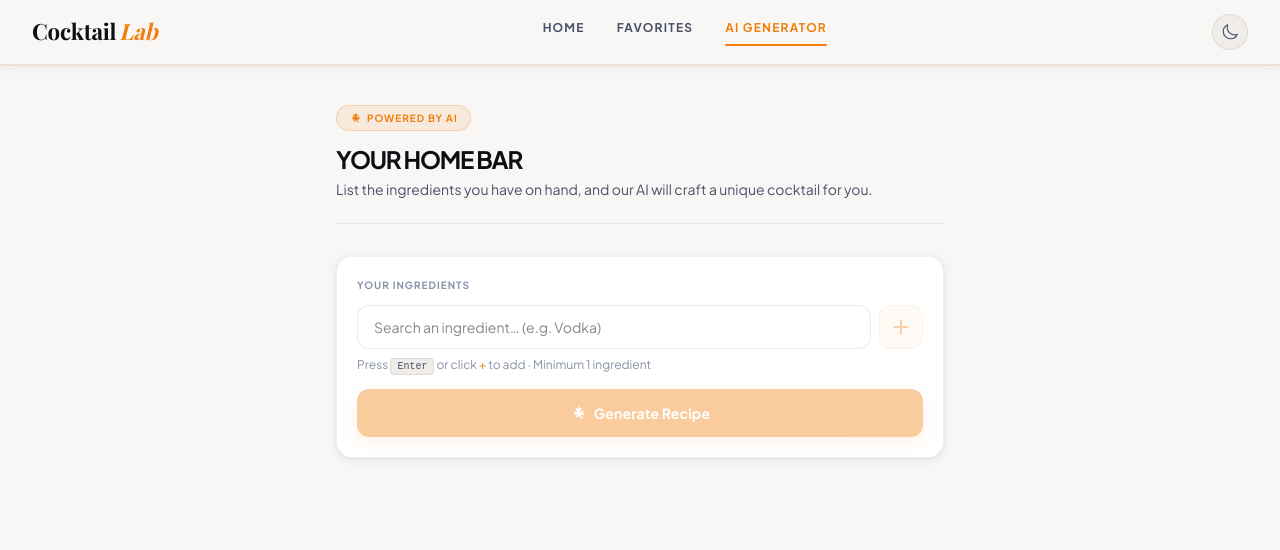
Test: GenerateAI view › adds an ingredient by pressing Enter
Type "Vodka" into the field with placeholder "Search an ingredient… (e.g. Vodka)". click: (614, 327)
box: top-left (357, 305), bottom-right (871, 349)
Then press Enter
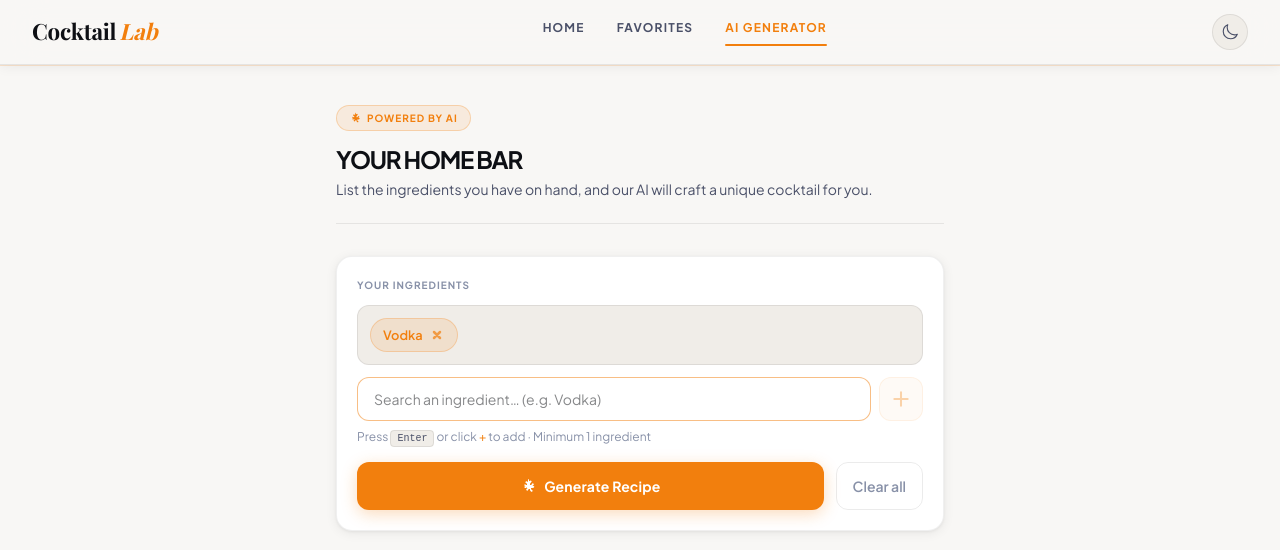
expect the text "Vodka" is shown: met, box top-left (370, 318), bottom-right (458, 352)
